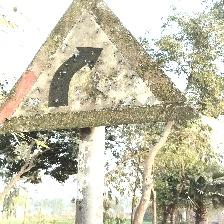Right-turn: (0, 1, 193, 133)
